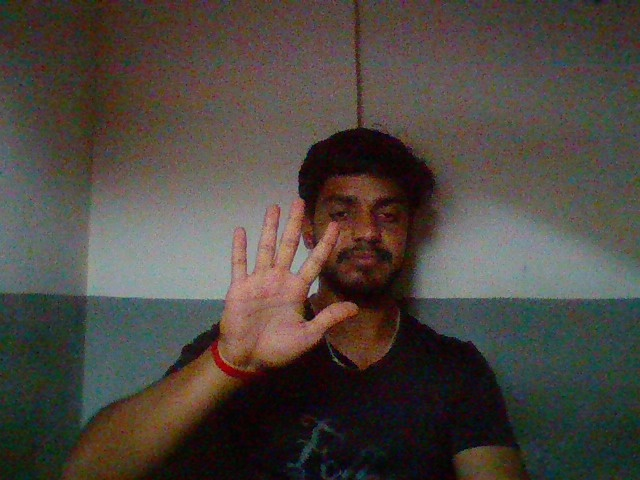Hello: (205, 192, 365, 374)
